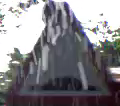Speed Breaker ahead: (5, 4, 112, 105)
